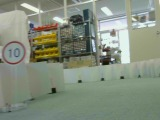speed_10: (1, 39, 26, 65)
